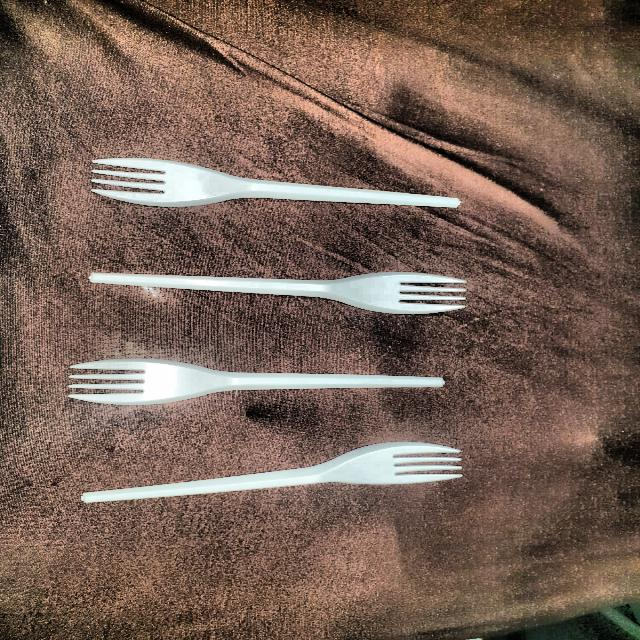plastic utensil: (78, 438, 472, 520), (76, 152, 486, 222), (61, 262, 479, 320), (55, 358, 454, 410)
